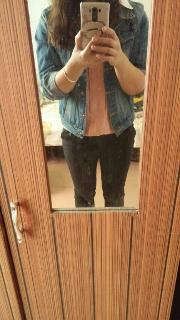long sleeve outwear: (34, 0, 149, 139)
trousers: (61, 120, 136, 208)
